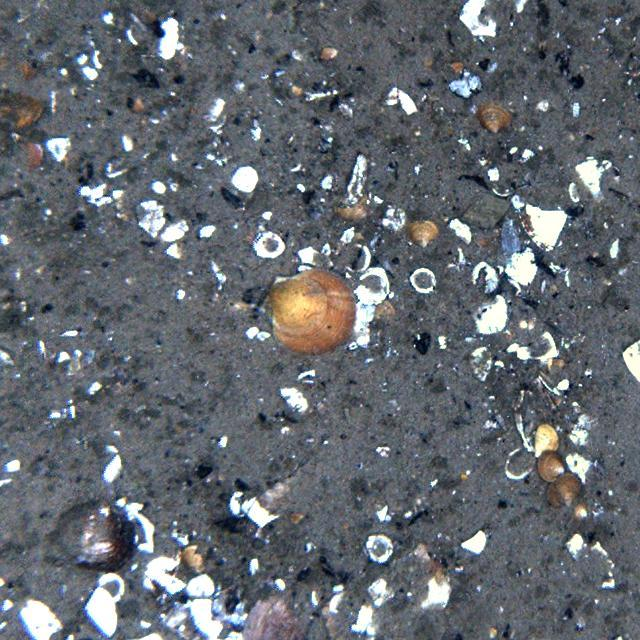scallop: (252, 270, 360, 355)
